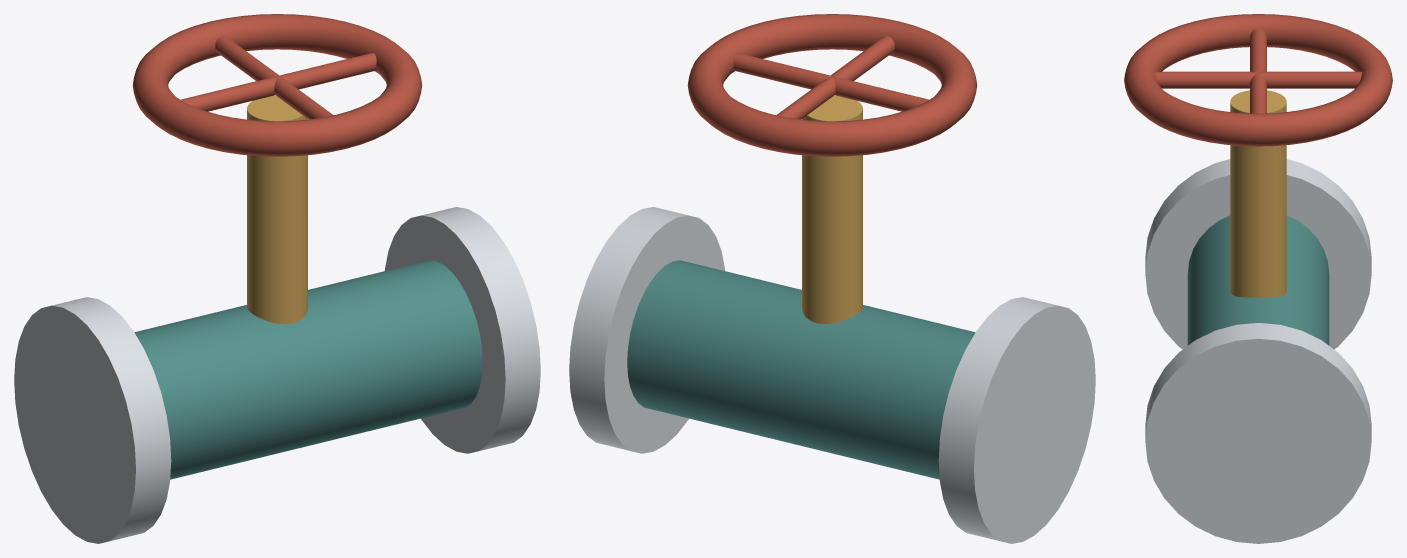
The model's file is valve.glb.
3 views of the same model, side by side, from view 1: azimuth 30°, elevation 25°; view 2: azimuth 150°, elevation 25°; view 3: azimuth 270°, elevation 25° (orthographic). The views are drawn at different scales.
Visible parts, largest first — view 1: valve; view 2: valve; view 3: valve.
Part boxes in pixels (left/top/right/bottom): valve: left=14, top=14, right=540, bottom=543; valve: left=569, top=14, right=1095, bottom=543; valve: left=1124, top=14, right=1392, bottom=543.
Bounding box in the file's own units: 0.92 × 0.905 × 0.57.
